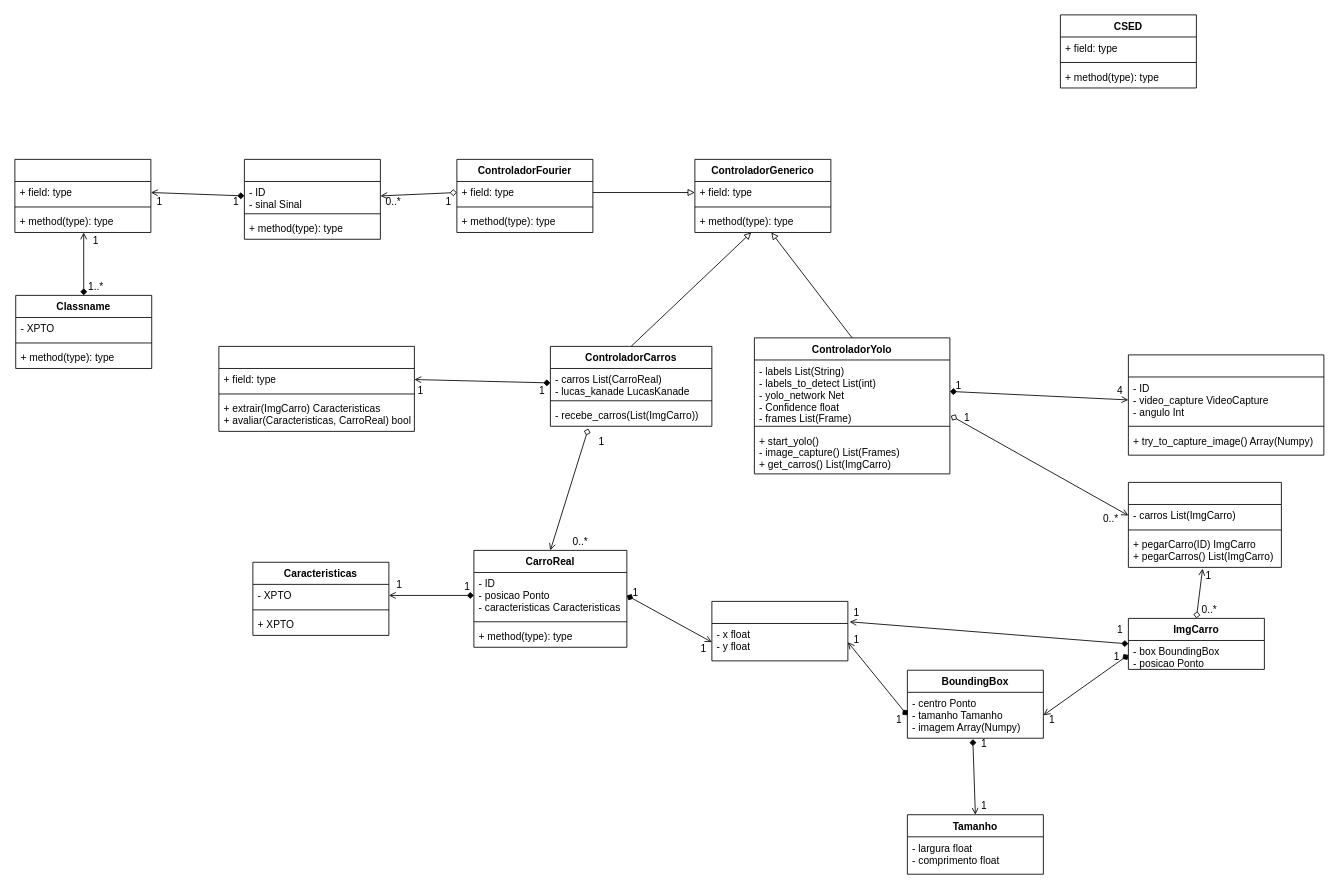
The diagram is 1339 pixels wide and 892 high, and some of its shapes have lost their labels. The shapes that lost their labels are listed below. From the top down, each one's box as (x1, y1, x2, y2) in pixels, then its label:
(14, 159, 151, 232): Sinal
(244, 159, 380, 239): CarroAbstrato
(218, 346, 414, 431): LucasKanade
(1128, 354, 1324, 455): Camera
(1128, 482, 1281, 567): Frame
(711, 601, 848, 661): Ponto
